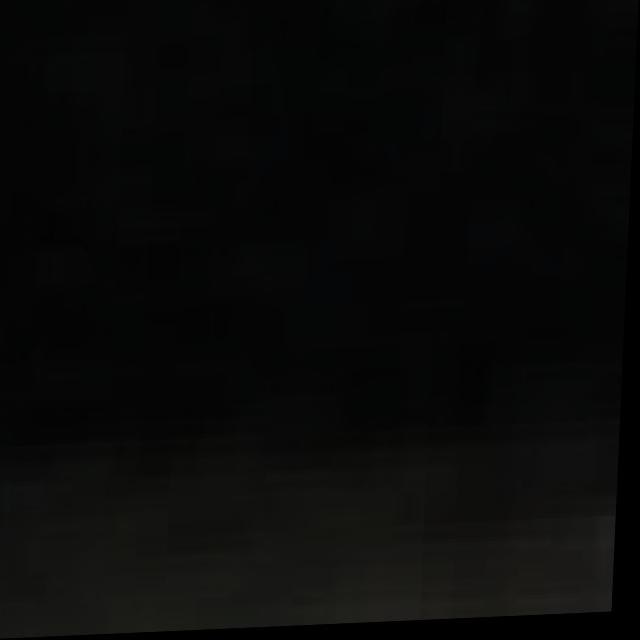diode: (0, 0, 640, 612)
